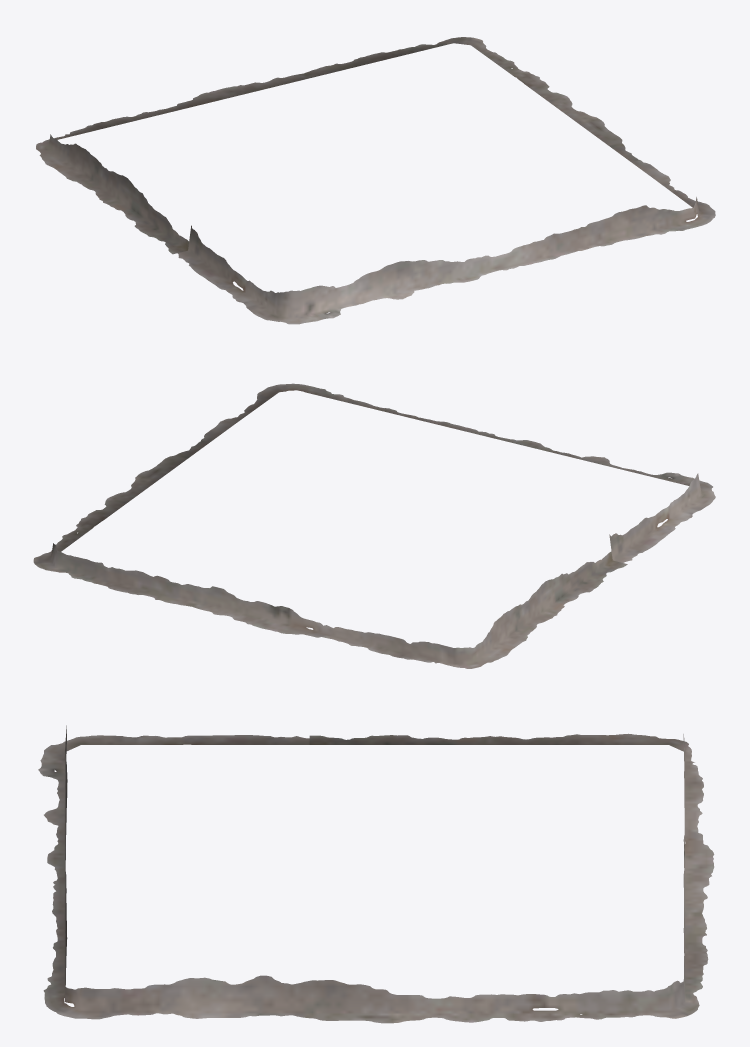
File: SM_Wall_Concrete_Trim_Pillar_01a.glb
The picture shows the model from 3 angles, top to bottom: view 1: azimuth 30°, elevation 25°; view 2: azimuth 150°, elevation 25°; view 3: azimuth 270°, elevation 25°; orthographic projection. The views are drawn at different scales.
Parts seen in each view (by area): view 1: SM_Wall_Concrete_Trim_Pillar_01a; view 2: SM_Wall_Concrete_Trim_Pillar_01a; view 3: SM_Wall_Concrete_Trim_Pillar_01a.
Boxes of the visible parts, x1,y1,x2,y2 form: SM_Wall_Concrete_Trim_Pillar_01a: [36, 37, 715, 324]; SM_Wall_Concrete_Trim_Pillar_01a: [33, 383, 715, 668]; SM_Wall_Concrete_Trim_Pillar_01a: [38, 725, 714, 1023].
Size of the model in its own units: 0.565 by 0.0337 by 0.5573.
1 material, 1 textured.
